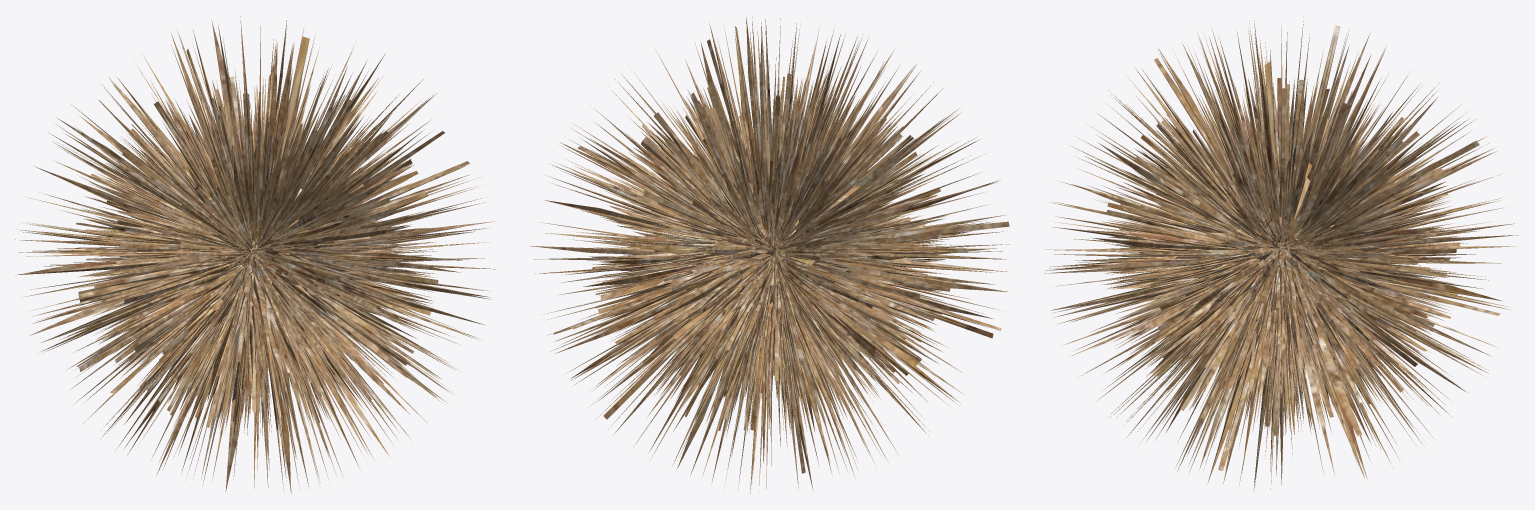
The model's file is scmeteor.fbx.
3 views of the same model, side by side, from view 1: azimuth 30°, elevation 25°; view 2: azimuth 150°, elevation 25°; view 3: azimuth 270°, elevation 25° (orthographic).
Visible parts, largest first — view 1: Cube; view 2: Cube; view 3: Cube.
Part boxes in pixels (x1,y1,x2,y2): Cube: (15,16,495,493); Cube: (530,16,1010,493); Cube: (1044,17,1517,490).
Size of the model in its own units: 97.32 by 98.02 by 97.94.
